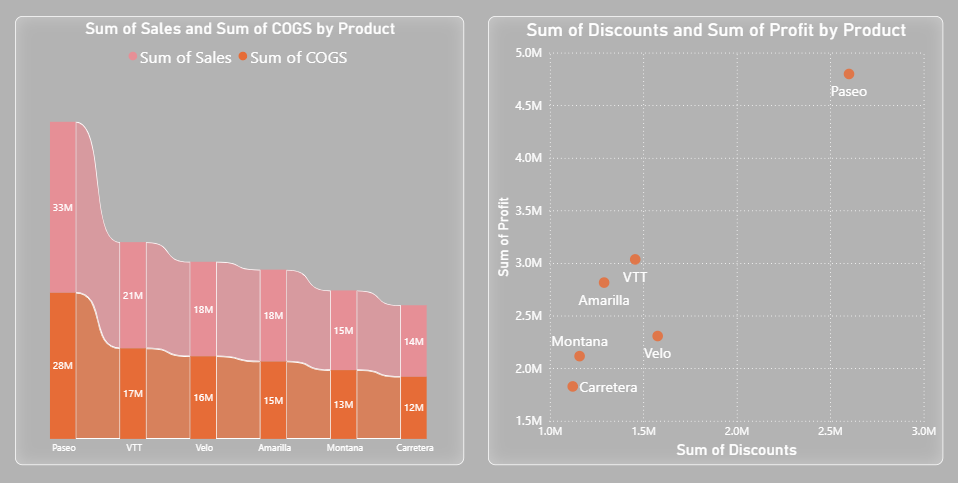

What the dashboard file says about the page in this screenshot:
{"tool":"powerbi","page":{"name":"Profit Analysis","canvas":[1280,720],"ordinal":1},"visuals":[{"type":"clusteredColumnChart","fields":{"Category":["financials.Product"],"Y":["Sum(financials.Sales)","Sum(financials.COGS)"]},"box":[37.8,103.1,589.3,587.6],"z":0},{"type":"scatterChart","fields":{"X":["Sum(financials.Discounts)"],"Y":["Sum(financials.Profit)"],"Category":["financials.Product"]},"box":[664.9,103.1,596.2,587.6],"z":1000}]}

Visuals, with their boxes on the page's 1280x720 design canvas (x1, y1, x2, y2). These are canvas units, not pixel positions in the 958x483 screenshot, which may show the page scaled, cropped or inside an application window:
clusteredColumnChart - financials.Product x Sum(financials.Sales): select_region(38, 103, 627, 691)
scatterChart - Sum(financials.Discounts) x Sum(financials.Profit): select_region(665, 103, 1261, 691)
